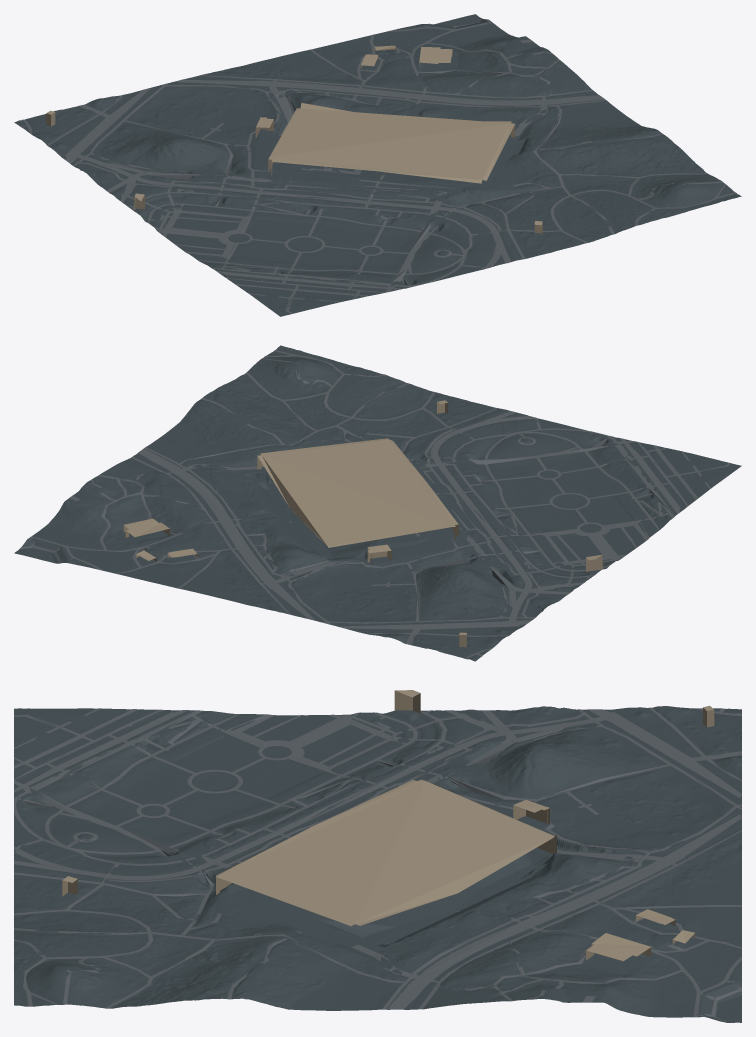
File: epsg26910-1424-10886.lod0.glb
3 renders of one model, top to bottom at view 1: azimuth 30°, elevation 25°; view 2: azimuth 150°, elevation 25°; view 3: azimuth 270°, elevation 25°, orthographic. The views are drawn at different scales.
Parts seen in each view (by area): view 1: epsg26910-1424-10886-lod0; view 2: epsg26910-1424-10886-lod0; view 3: epsg26910-1424-10886-lod0.
Part boxes in pixels (x1=…): epsg26910-1424-10886-lod0: x1=14, y1=14, x2=741, y2=316; epsg26910-1424-10886-lod0: x1=14, y1=345, x2=741, y2=661; epsg26910-1424-10886-lod0: x1=14, y1=690, x2=741, y2=1022.
Size of the model in its own units: 384 by 18.71 by 384.
